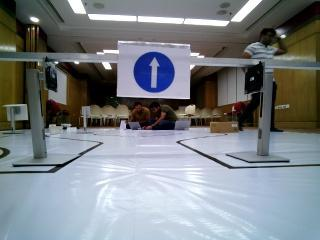straight: (119, 43, 196, 98)
